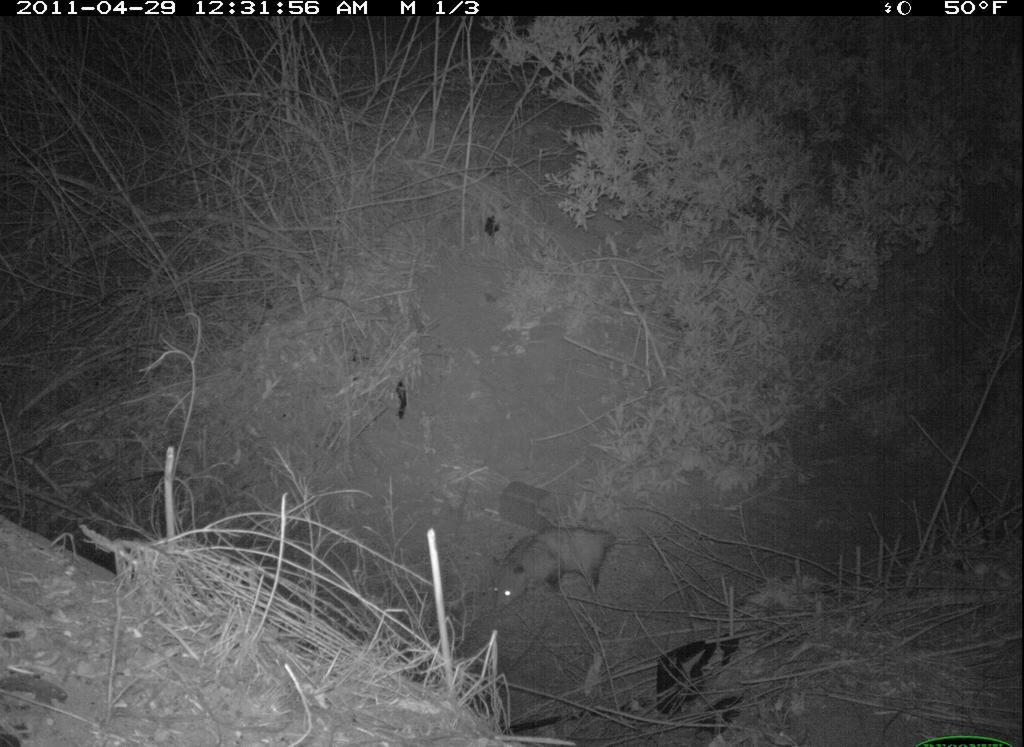opossum: (479, 514, 644, 622)
